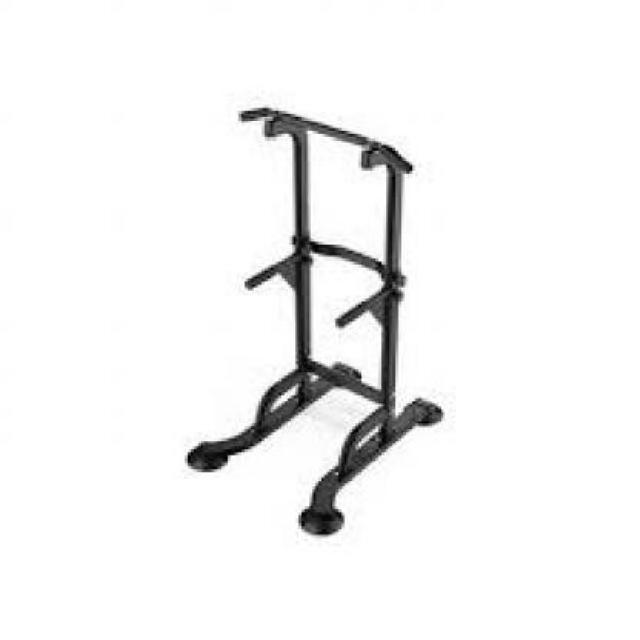chinning dipping: (183, 105, 451, 537)
